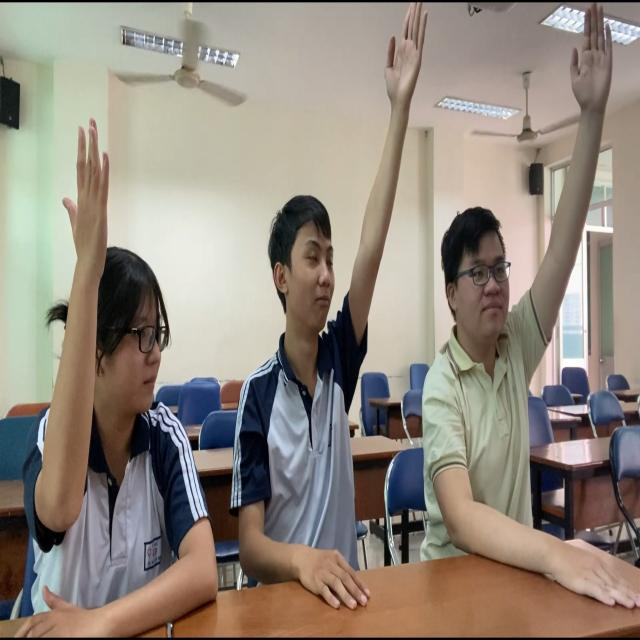raise_hand: (420, 1, 640, 618), (240, 3, 433, 619), (31, 114, 221, 640)
